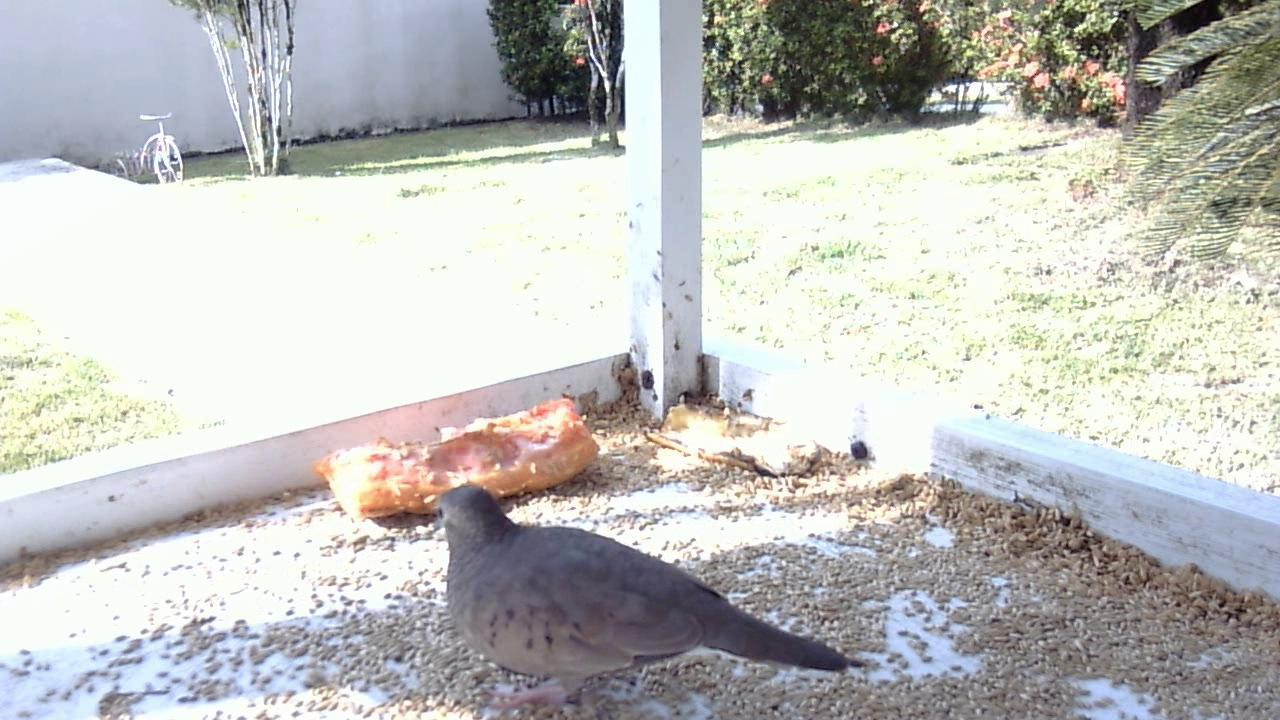rolinha: (432, 477, 863, 712)
